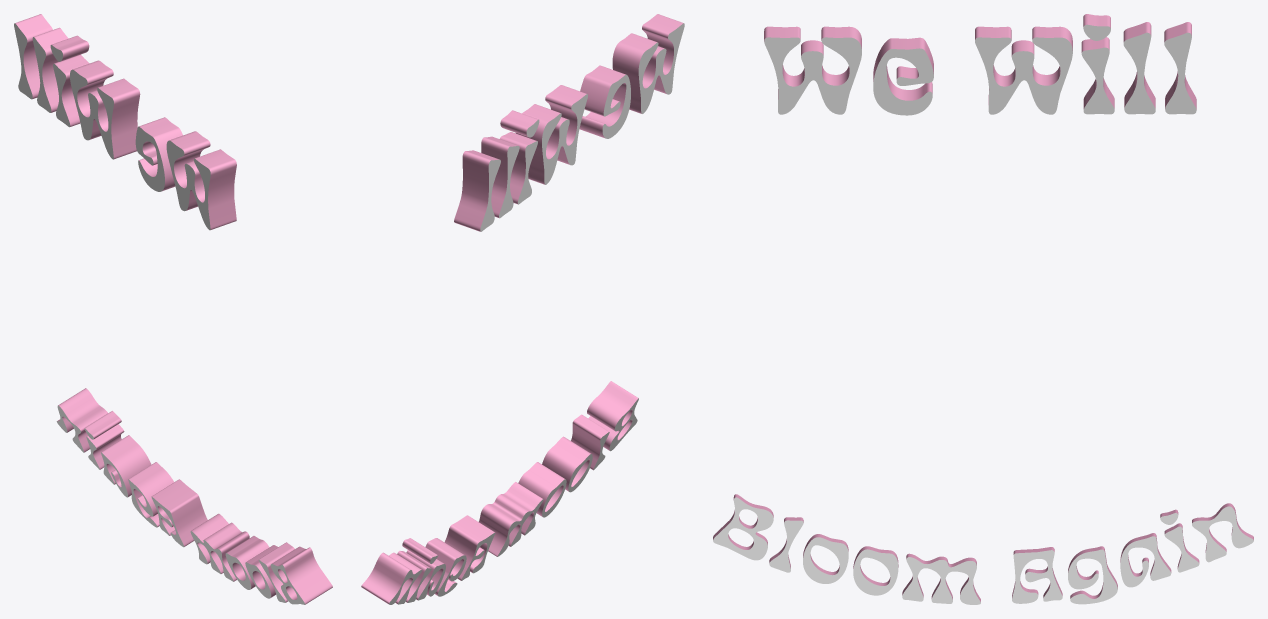
File: SummerComingTextNew.gltf
The picture shows the model from 3 angles, left to right: view 1: azimuth 30°, elevation 25°; view 2: azimuth 150°, elevation 25°; view 3: azimuth 270°, elevation 25°; orthographic projection. The views are drawn at different scales.
Parts seen in each view (by area): view 1: We Will, Bloom Again 2; view 2: We Will, Bloom Again 2; view 3: We Will, Bloom Again 2.
Boxes of the visible parts, left/top/right/bottom form: We Will: left=14, top=14, right=236, bottom=230; Bloom Again 2: left=56, top=388, right=332, bottom=604; We Will: left=454, top=14, right=684, bottom=231; Bloom Again 2: left=361, top=381, right=638, bottom=604; We Will: left=764, top=14, right=1196, bottom=115; Bloom Again 2: left=713, top=494, right=1253, bottom=604.
Size of the model in its own units: 0.1873 by 0.7586 by 0.6846.
